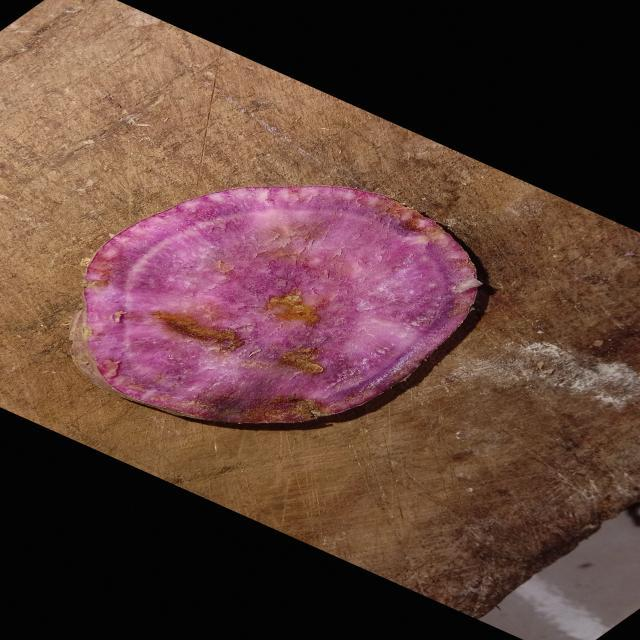Sick Sweet Potato_Tuber Rot: (71, 186, 480, 424)
